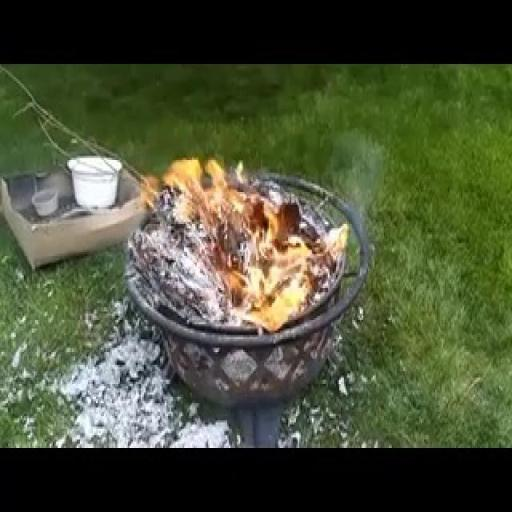smoke: (181, 161, 336, 328)
